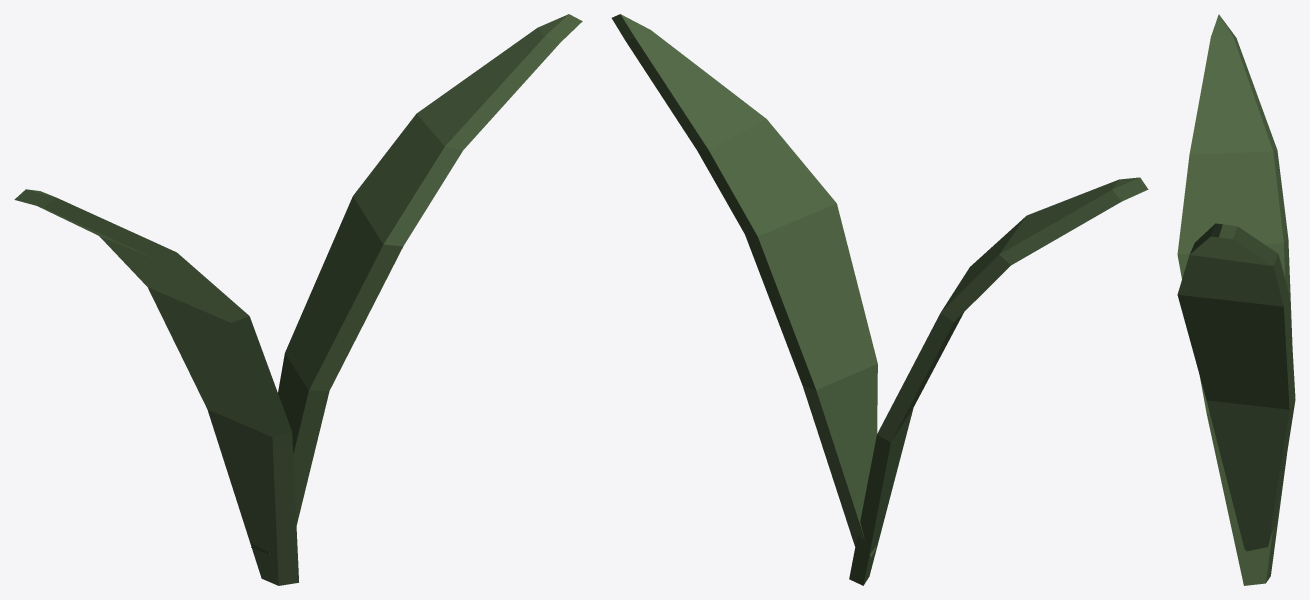
File: Flower_1.gltf
3 views of the same model, side by side, from view 1: azimuth 30°, elevation 25°; view 2: azimuth 150°, elevation 25°; view 3: azimuth 270°, elevation 25° (orthographic). The views are drawn at different scales.
Visible parts, largest first — view 1: Flower_1; view 2: Flower_1; view 3: Flower_1.
Part boxes in pixels (box(x1,y1,x2,y2)): Flower_1: box(14, 14, 582, 585); Flower_1: box(611, 14, 1148, 585); Flower_1: box(1177, 14, 1295, 585).
Size of the model in its own units: 0.1267 by 0.1099 by 0.0245.
